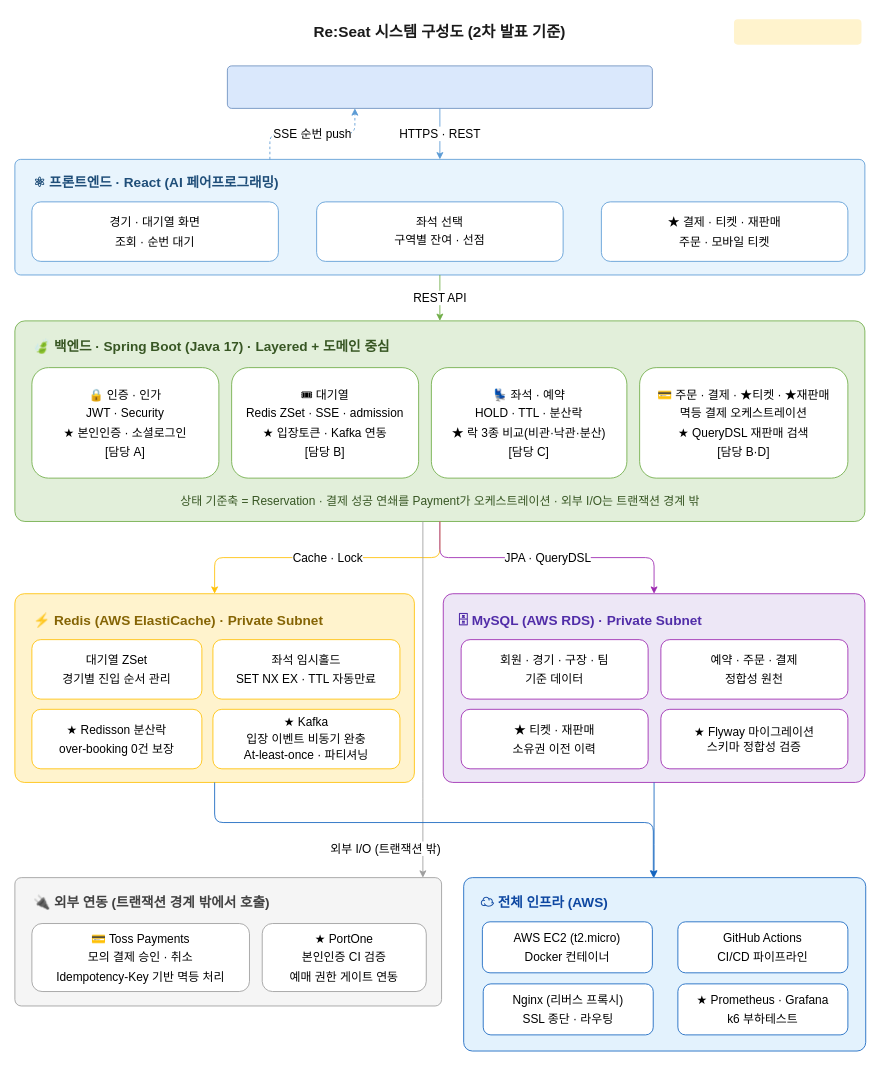
This 881x1066 diagram has some shape labels left out. Each missing label, with the centre of its shape:
"★ = 2차 확장 기능" belongs at (797,31).
"👤 사용자 (User)" belongs at (439,86).
